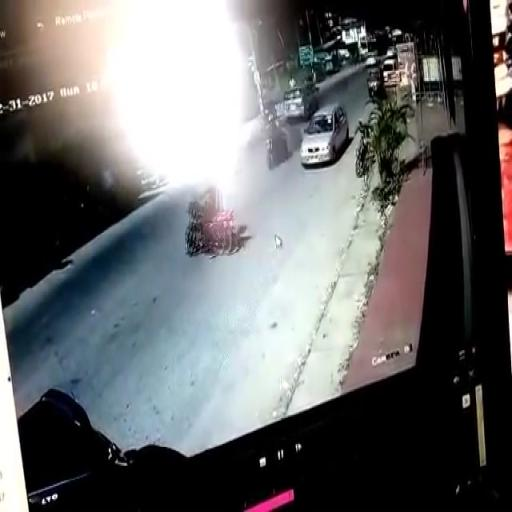小汽车: (299, 104, 349, 164)
自行车: (187, 169, 237, 256), (259, 108, 292, 174)
